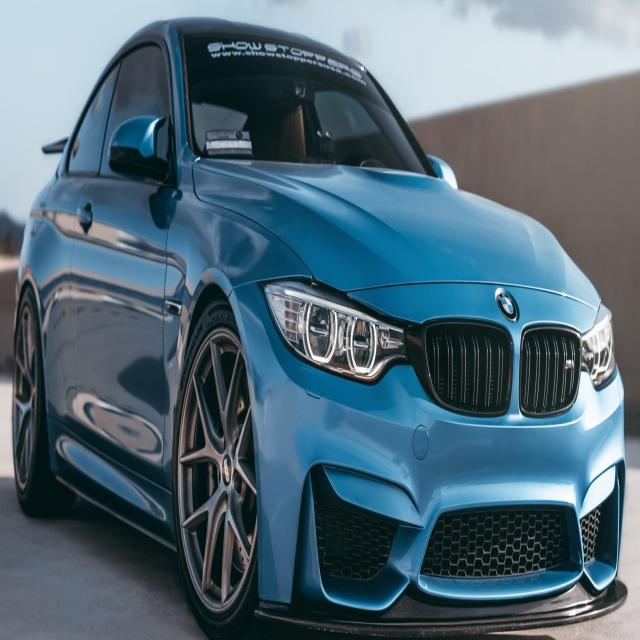blue: (19, 31, 629, 640)
